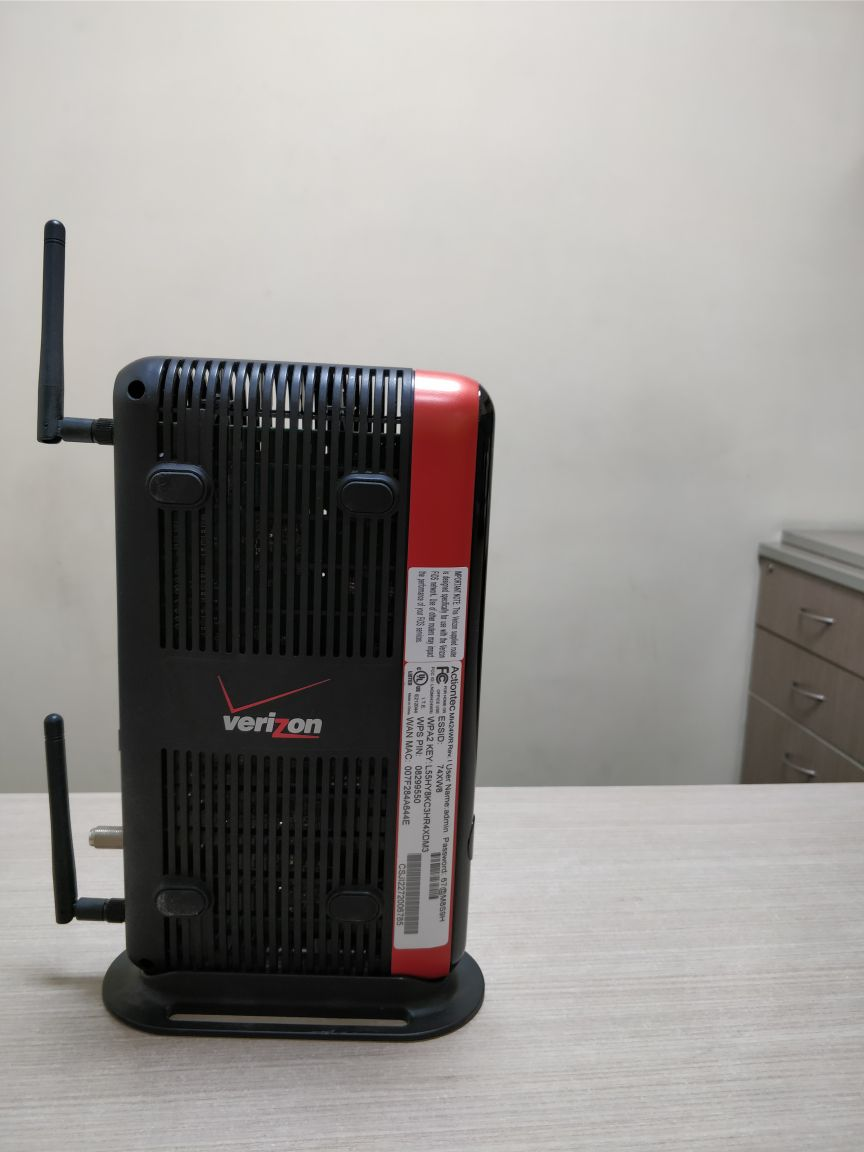Verizon Router: (21, 209, 528, 1076)
